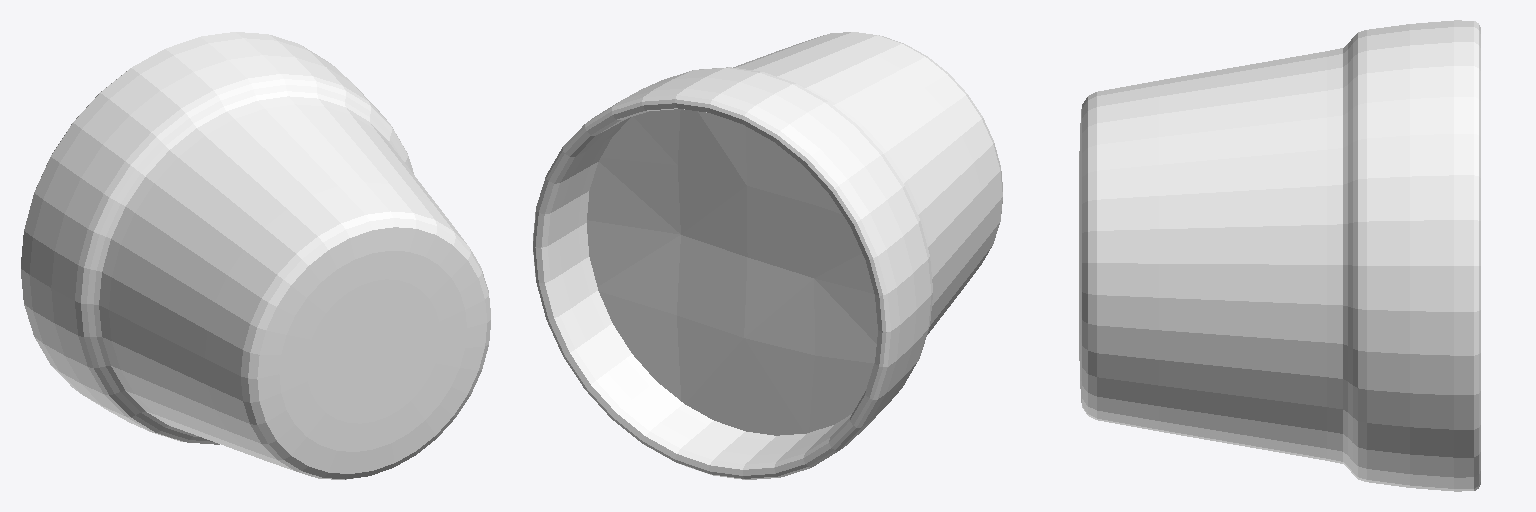
URDF robot description (flowerpot.urdf):
<?xml version="1.0" ?>
<robot name="flowerpot.urdf">
  <link name="baseLink">
    <inertial>
      <origin rpy="0 0 0" xyz="0 0 0"/>
       <mass value="0.0"/>
       <inertia ixx="0" ixy="0" ixz="0" iyy="0" iyz="0" izz="0"/>
    </inertial>
    <visual>
      <origin rpy="0 0 0" xyz="0 0 0"/>
      <geometry>
        <mesh filename="flowerpot.obj" scale="0.05 0.05 0.05"/>
      </geometry>
      <material name="white">
       <color rgba="1 1 1 1"/>
     </material>
    </visual>
    <collision>
      <origin rpy="0 0 0" xyz="0 0 0"/>
      <geometry>
        <mesh filename="flowerpot.obj" scale="0.05 0.05 0.05"/>
        <!-- You could also specify the collision (for the flowerpot) with a "box" tag: -->
        <!-- <box size=".06 .06 .06"/> -->
      </geometry>
    </collision>
  </link>
</robot>

--- Facts derived from the render (not from the file) ---
Views: 3 orthographic renders of the robot side by side, from view 1: azimuth 30°, elevation 25°; view 2: azimuth 150°, elevation 25°; view 3: azimuth 270°, elevation 25°.
Model flowerpot.urdf with 1 links and 0 joints (none), rooted at baseLink, posed every joint at zero.
Links seen in each view (by area): view 1: baseLink; view 2: baseLink; view 3: baseLink.
Link boxes in pixels (x1,y1,x2,y2): baseLink: (21, 32, 490, 479); baseLink: (533, 32, 1002, 479); baseLink: (1079, 20, 1480, 491).
Bounding box of the posed robot: 0.001 × 0.0009 × 0.001 m (x, y, z).
Meshes: 1 distinct files referenced, 1 mesh visuals loaded (1 OBJ).
